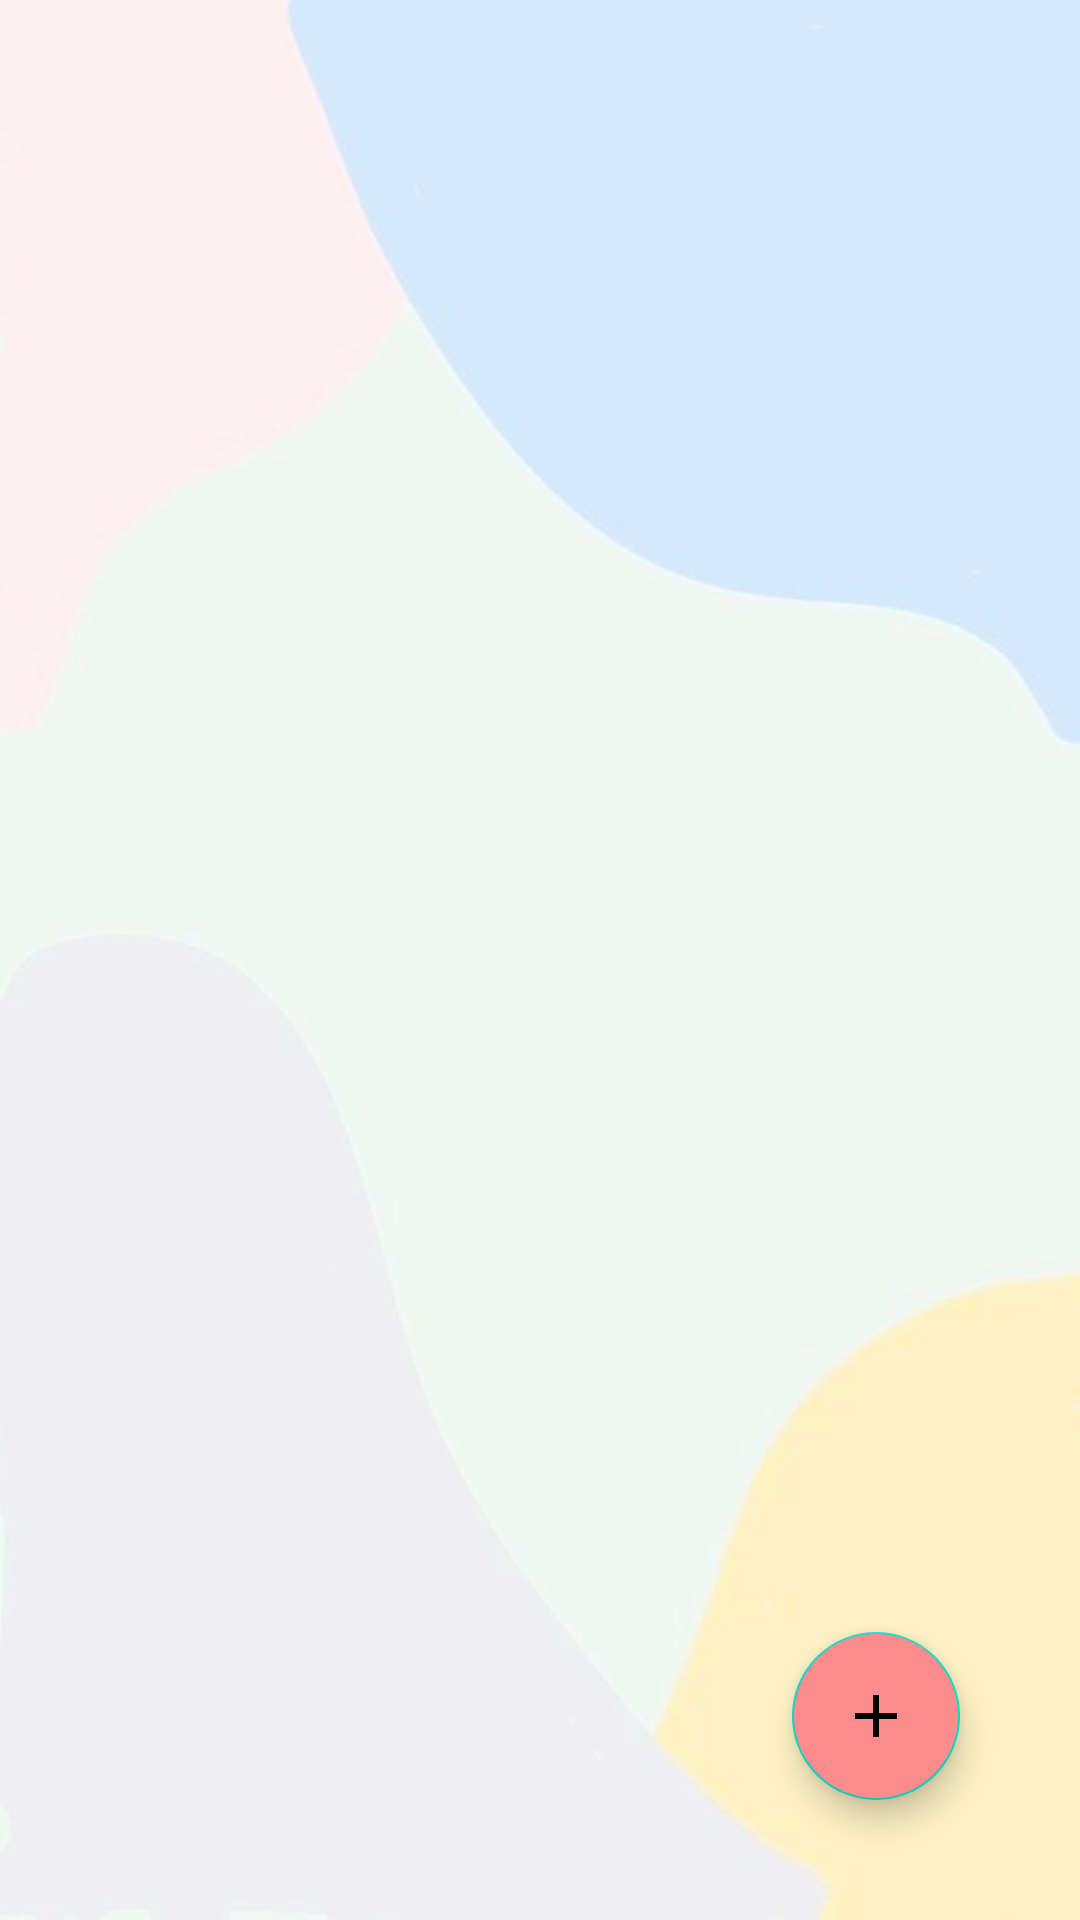

Icons on this 1080w x 1920h Android screen, each with its box as (x1, y1, x2, y2):
add User: (792, 1632, 960, 1800)
